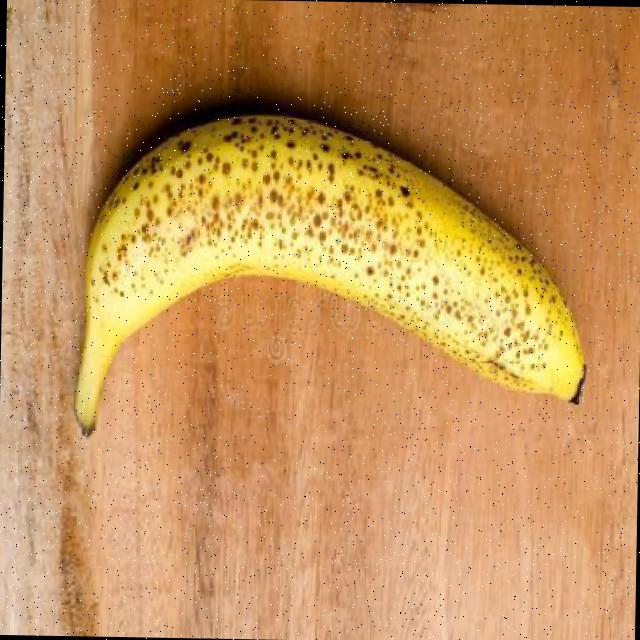banana: (73, 109, 586, 434)
